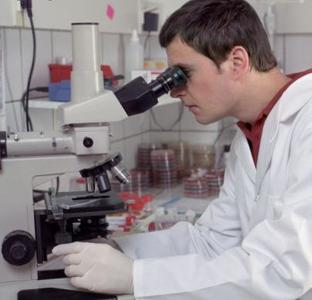person: (52, 2, 312, 300)
